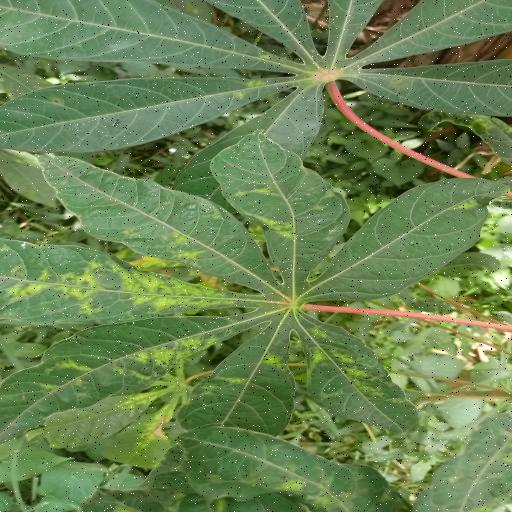Cassava_Healthy: (0, 0, 512, 198)
Cassava_Mosaic: (0, 131, 512, 470)
